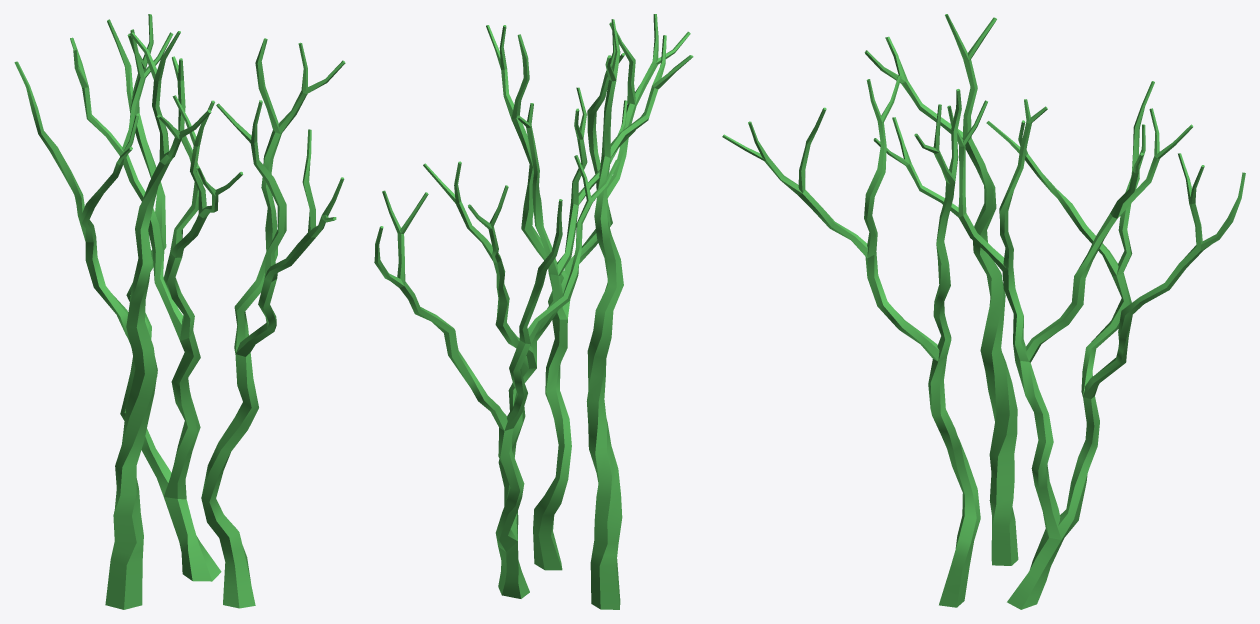
The model's file is jungle_wiggle_tree_C.fbx.
3 views of the same model, side by side, from view 1: azimuth 30°, elevation 25°; view 2: azimuth 150°, elevation 25°; view 3: azimuth 270°, elevation 25° (orthographic). The views are drawn at different scales.
Parts seen in each view (by area): view 1: jungle_wiggle_tree_C_A, jungle_wiggle_tree_C_D, jungle_wiggle_tree_C_B; view 2: jungle_wiggle_tree_C_A, jungle_wiggle_tree_C_B, jungle_wiggle_tree_C_D; view 3: jungle_wiggle_tree_C_A, jungle_wiggle_tree_C_D, jungle_wiggle_tree_C_B.
Part boxes in pixels (x1,y1,x2,y2): jungle_wiggle_tree_C_A: (14,14,243,581); jungle_wiggle_tree_C_D: (201,38,345,608); jungle_wiggle_tree_C_B: (105,31,211,609); jungle_wiggle_tree_C_A: (374,87,643,598); jungle_wiggle_tree_C_B: (586,19,693,609); jungle_wiggle_tree_C_D: (486,14,690,570); jungle_wiggle_tree_C_A: (873,81,1245,609); jungle_wiggle_tree_C_D: (722,75,980,607); jungle_wiggle_tree_C_B: (864,14,1018,565).
Size of the model in its own units: 305 by 838 by 713.
